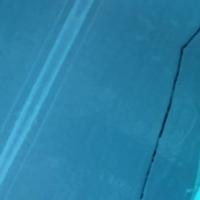crack: (100, 18, 199, 199)
